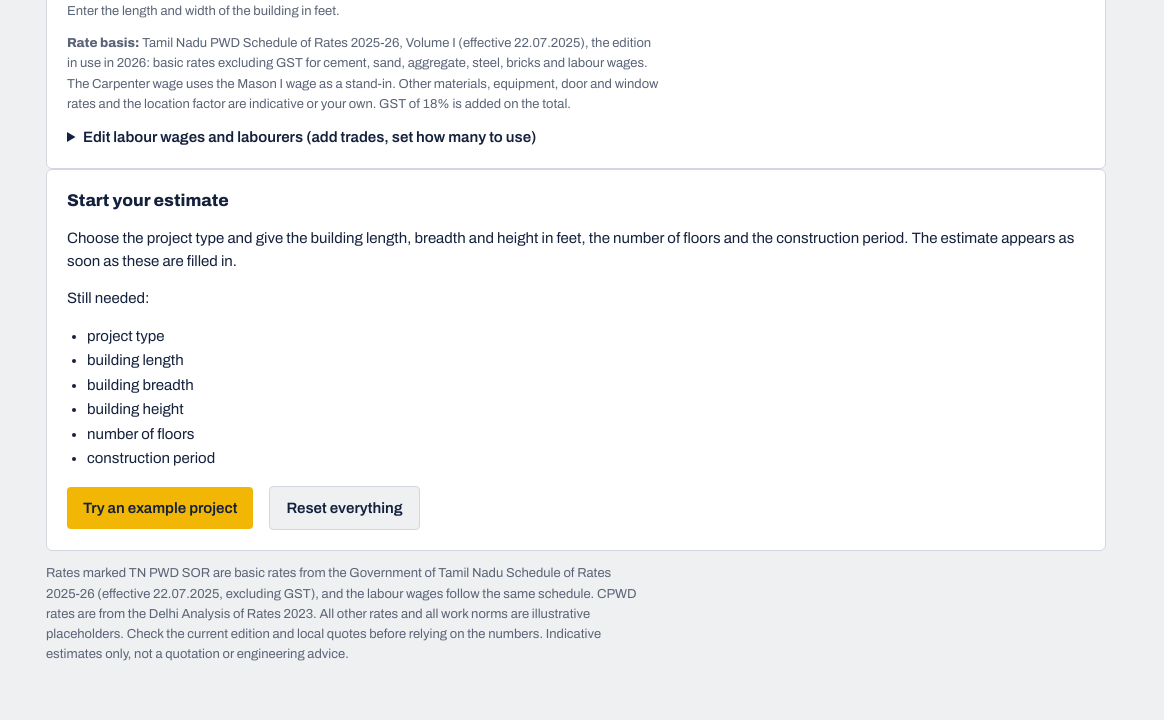
Test: App › changing the land unit converts the number, not the area
The image size is (1164, 720).
Later steps or results of the test are not shown.
(page scrolled)
Click the button "Try an example project": (160, 508) [67,487,253,529]
(page scrolled)
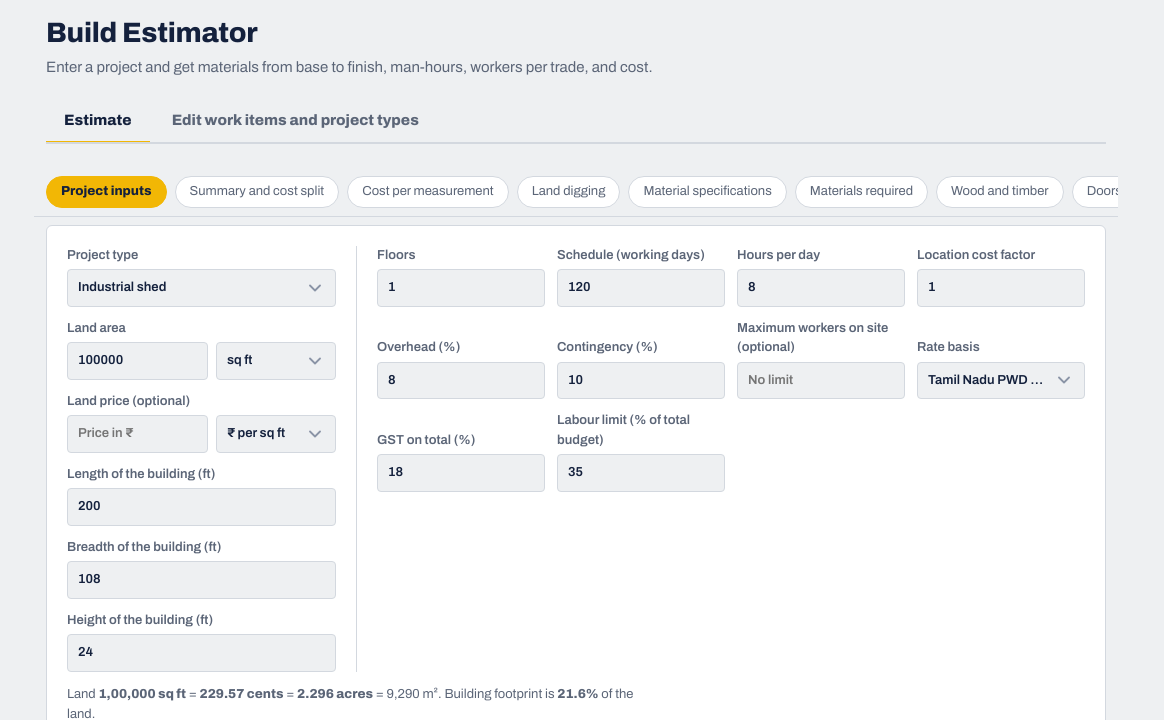
Check: the number field named "Land area value" holds "100000", box [67,342,208,380]
